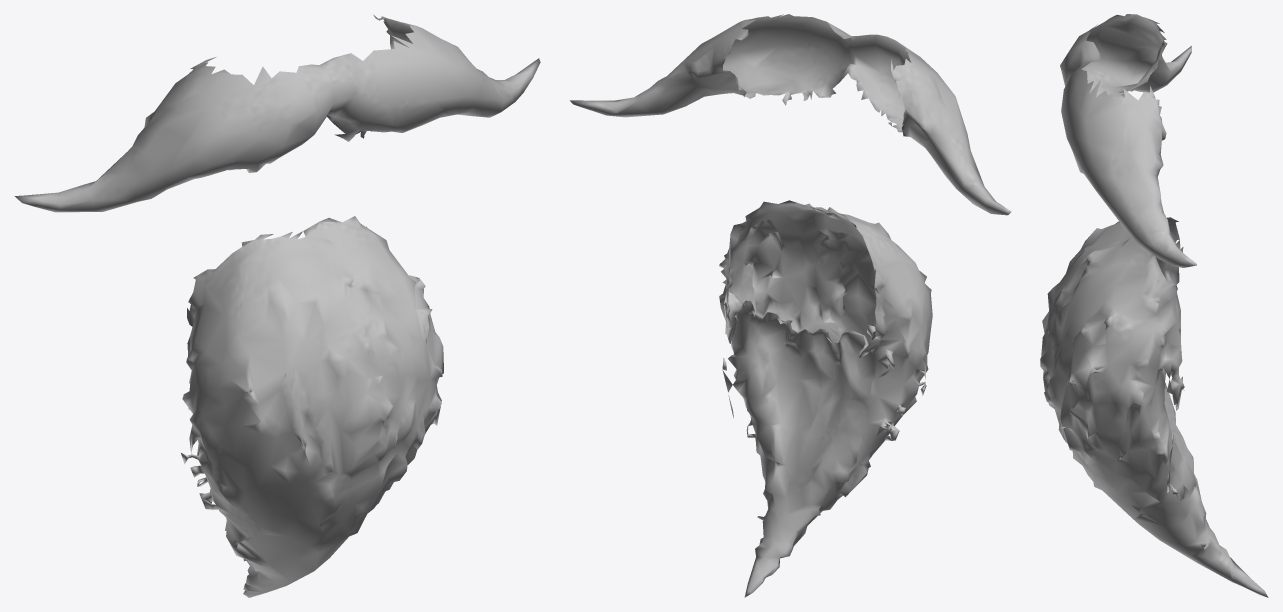
Rendered from beard_goatee.glb.
3 views of the same model, side by side, from view 1: azimuth 30°, elevation 25°; view 2: azimuth 150°, elevation 25°; view 3: azimuth 270°, elevation 25° (orthographic). The views are drawn at different scales.
Visible parts, largest first — view 1: Hair; view 2: Hair; view 3: Hair.
Part boxes in pixels (x1=…): Hair: x1=14, y1=14, x2=540, y2=597; Hair: x1=570, y1=14, x2=1011, y2=597; Hair: x1=1040, y1=14, x2=1268, y2=597.
Bounding box in the file's own units: 0.4994 × 0.5607 × 0.2148.
1 material, 1 textured.
